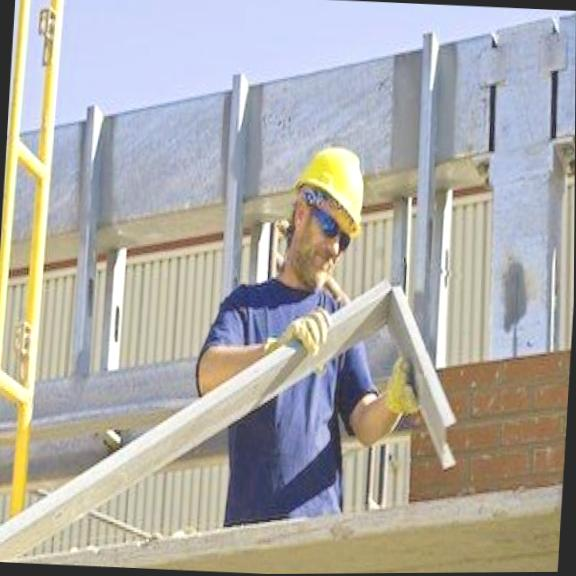no_safety_vest: (217, 285, 369, 520)
